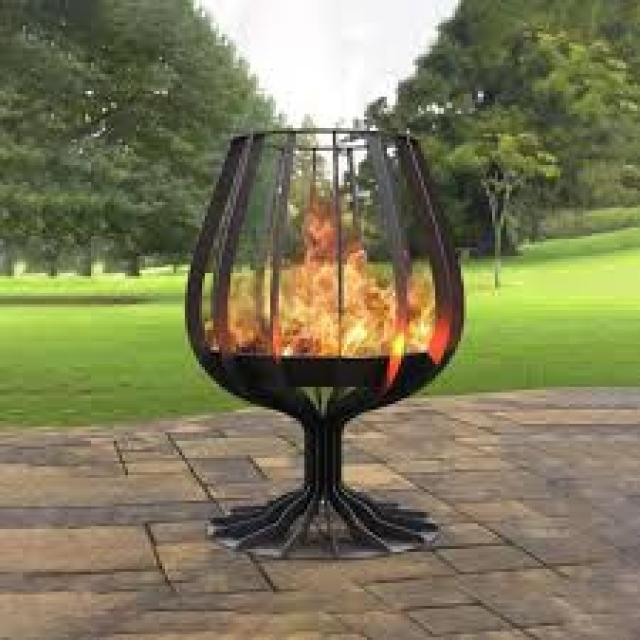fire: (227, 196, 436, 353)
